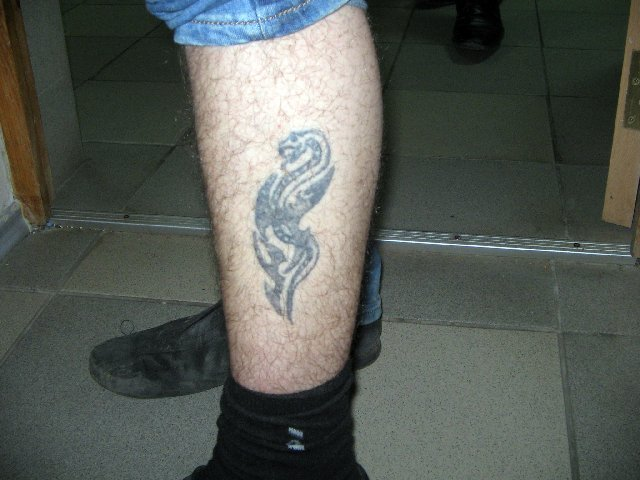tatu7_zmeya: (238, 119, 339, 326)
